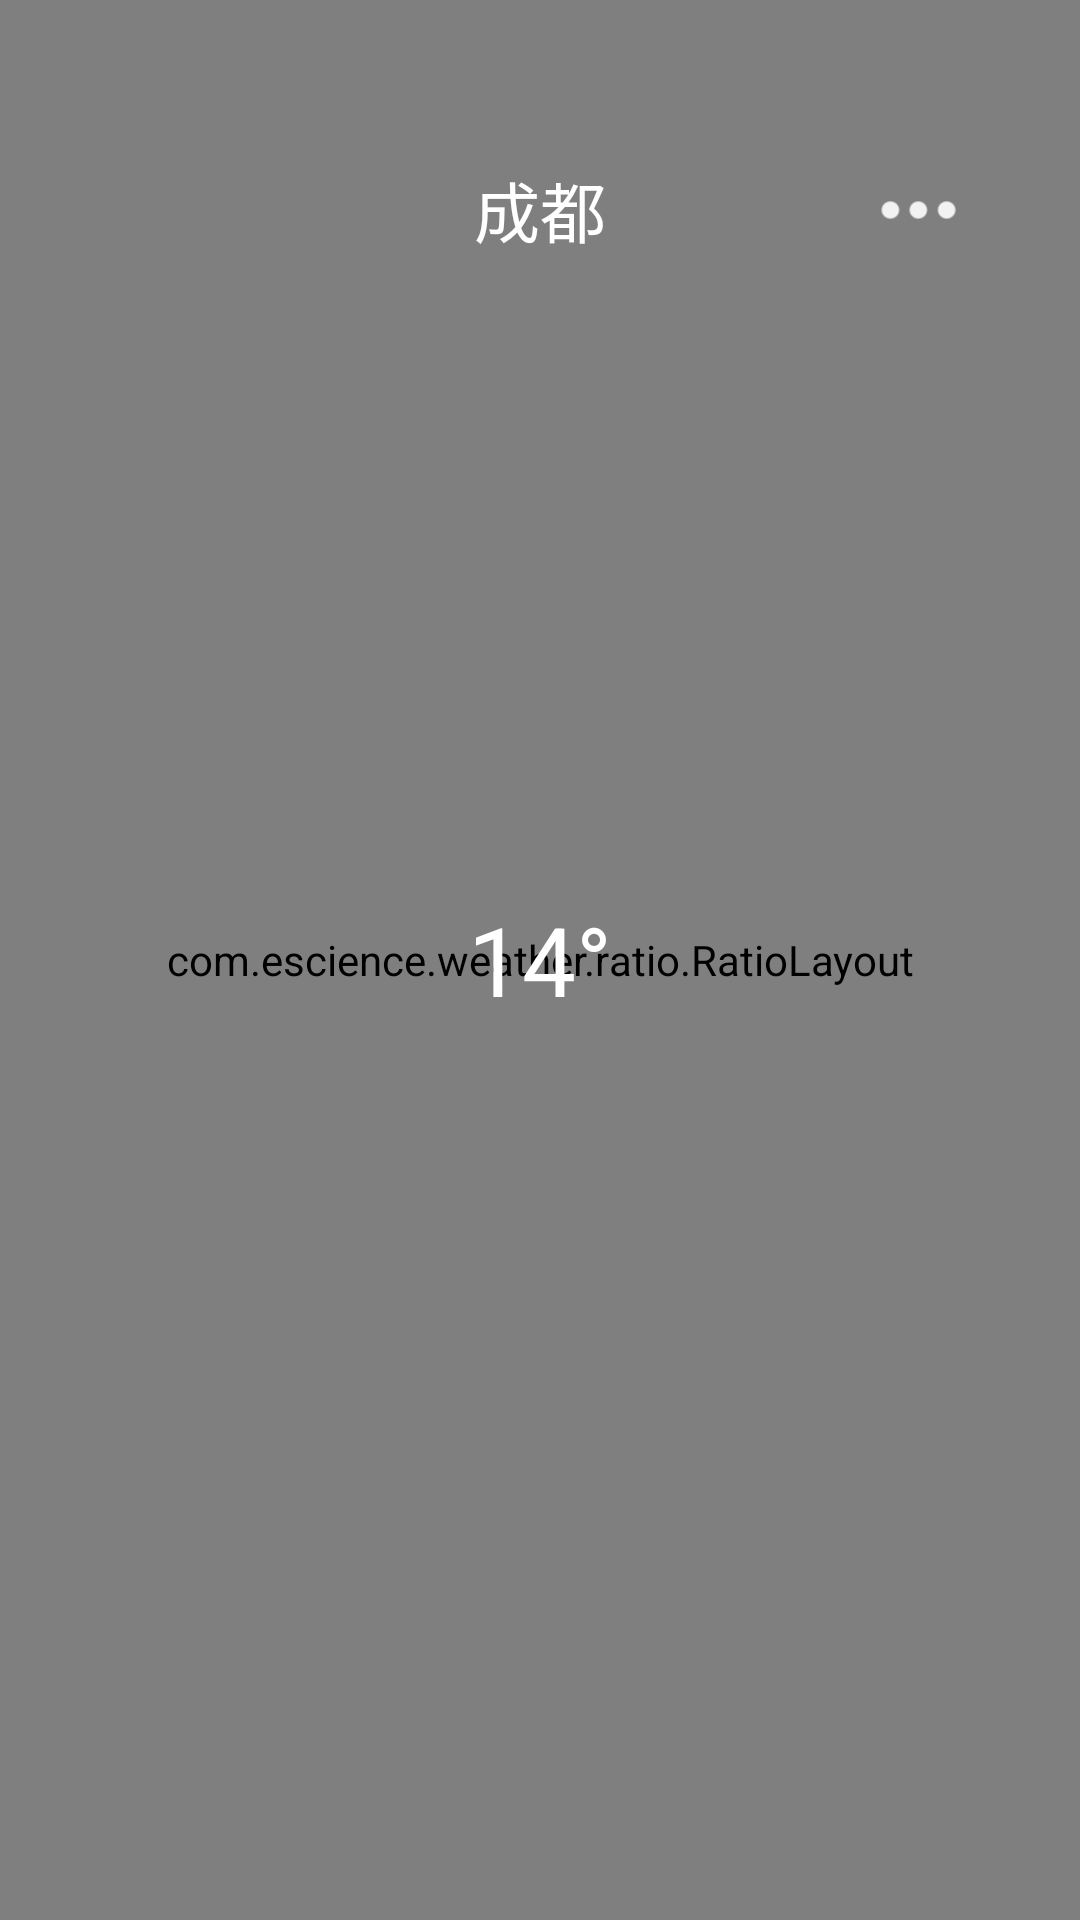

Locate icon controls on the screen. Image size 1080×1920, boxes as [x1, y1, x2, y2].
more: [881, 201, 956, 219]
